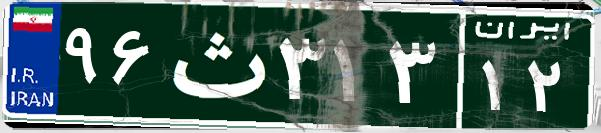1: (330, 28, 385, 110), (475, 38, 525, 113)
2: (525, 38, 570, 115)
3: (385, 28, 445, 110), (273, 28, 330, 110)
6: (110, 28, 158, 105)
9: (57, 26, 110, 107)
ث: (158, 15, 273, 115)
